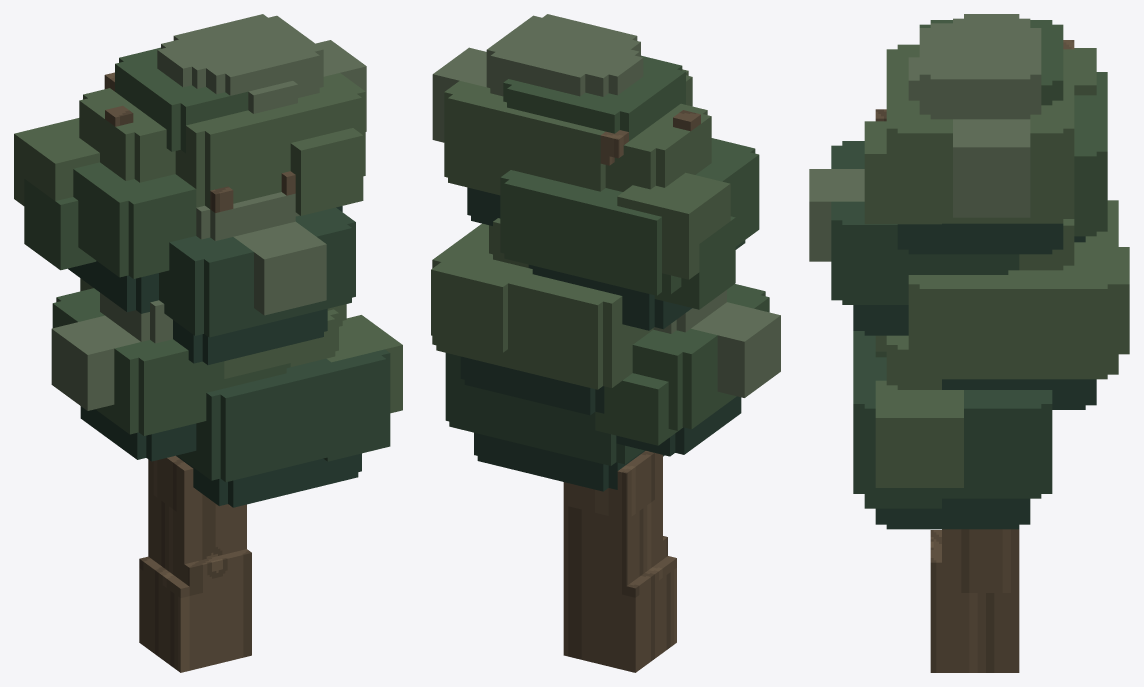
Rendered from juniper_ancient_2_picked.glb.
3 views of the same model, side by side, from view 1: azimuth 30°, elevation 25°; view 2: azimuth 150°, elevation 25°; view 3: azimuth 270°, elevation 25° (orthographic). The views are drawn at different scales.
Visible parts, largest first — view 1: VoxelVisual; view 2: VoxelVisual; view 3: VoxelVisual.
Part boxes in pixels (<box>): VoxelVisual: <box>14,14,402,672</box>; VoxelVisual: <box>431,14,780,672</box>; VoxelVisual: <box>809,14,1129,672</box>.
Size of what is drawn, in the model's own units: 8.25 by 15.75 by 7.25.
